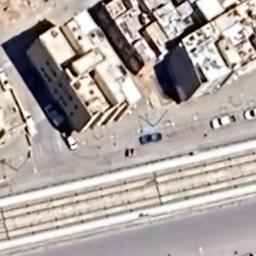pickup: (208, 115, 238, 131)
sedan: (42, 103, 66, 127), (60, 130, 80, 150), (138, 132, 164, 146), (243, 104, 256, 122)
